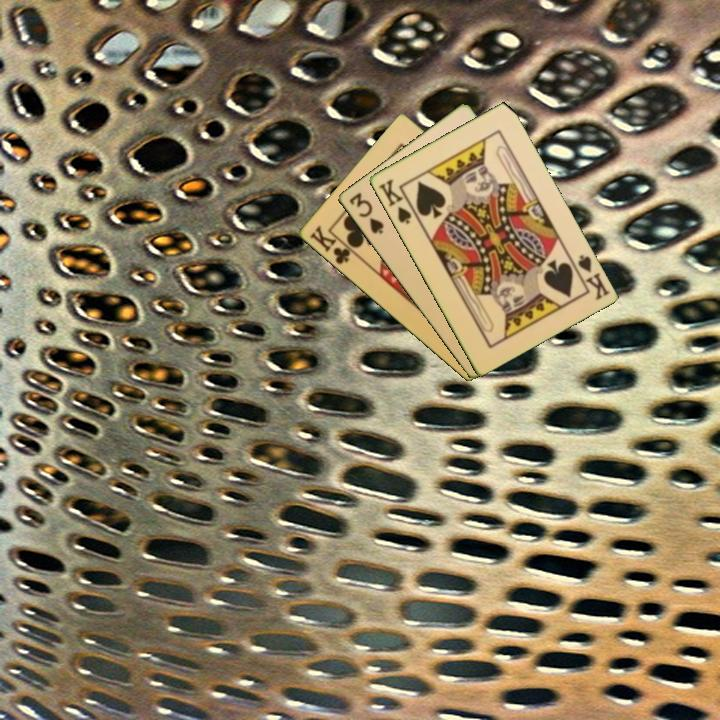3s: (345, 189, 386, 237)
Kc: (306, 222, 359, 267)
Ks: (567, 251, 612, 303), (375, 175, 419, 227)
